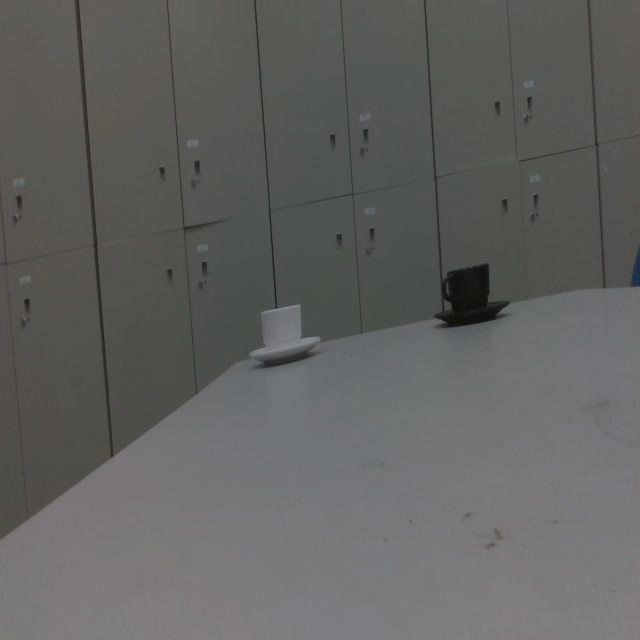black: (433, 258, 512, 331)
white: (247, 301, 323, 367)
